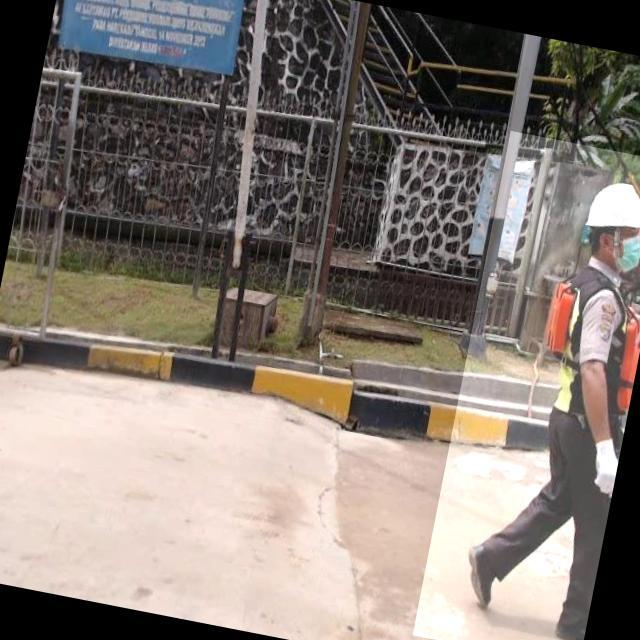Gloves: (583, 434, 622, 498)
Helmet: (584, 171, 640, 239)
Person: (423, 135, 640, 640)
Safety Boot: (458, 534, 511, 616)
Safety Vest: (533, 264, 640, 422)
